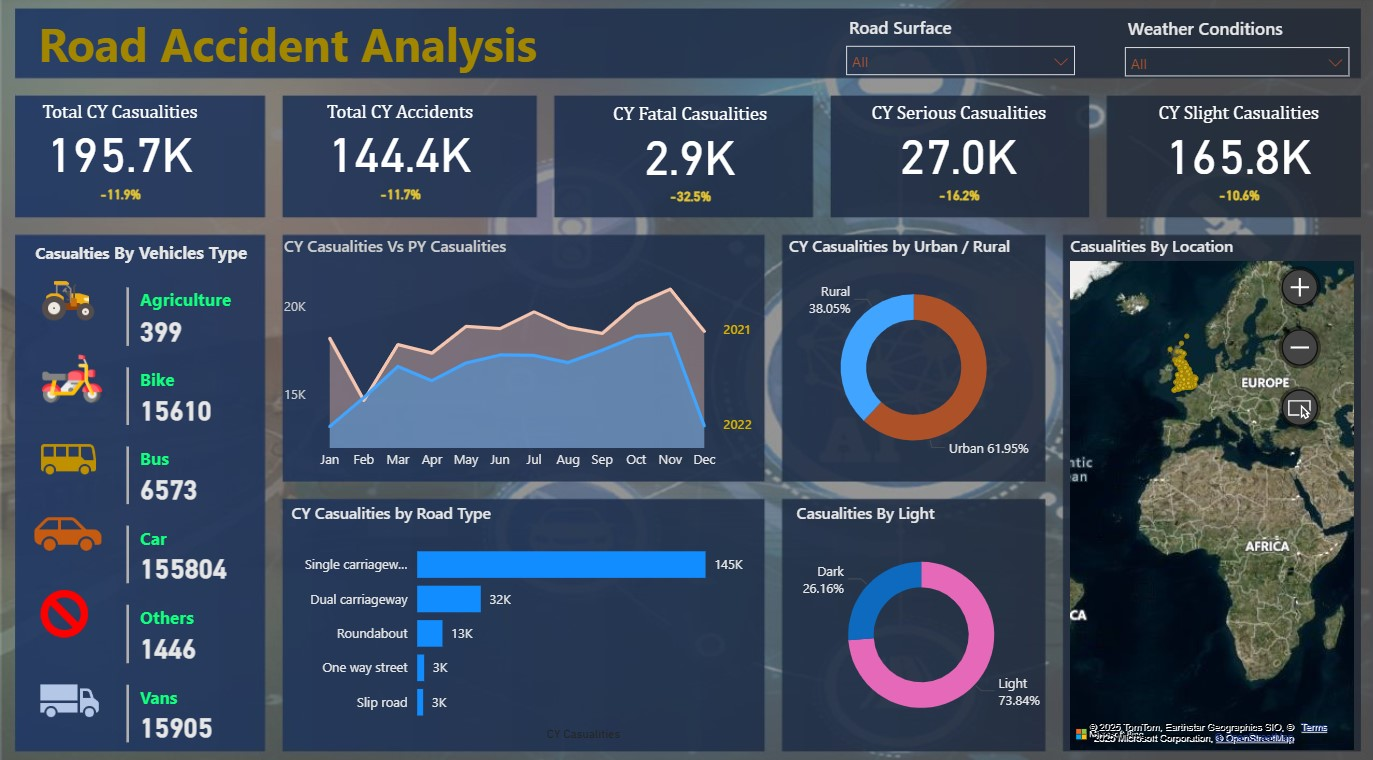

The page's visual inventory and layout, read from the dashboard file:
{"tool":"powerbi","page":{"name":"Page 1","canvas":[1280,720],"ordinal":0},"visuals":[{"type":"group","id":"g1","title":"Group 1","box":[11.6,96.1,199.9,105.7],"z":0},{"type":"card","title":"Total CY Casualities","fields":{"Values":["Data.CY Casualities"]},"box":[11.6,96.1,199.9,73.2],"z":0,"group":"g1"},{"type":"card","title":"Total CY Accidents","fields":{"Values":["Data.CY Accidents"]},"box":[271.9,96.4,199.9,73.2],"z":0,"group":"g2"},{"type":"card","title":"CY  Serious Casualities","fields":{"Values":["Data.CY Casualities"]},"box":[791.3,97.6,199.9,73.2],"z":0,"group":"g4"},{"type":"card","title":"CY Slight Casualities","fields":{"Values":["Data.CY Casualities"]},"box":[1052.7,97.6,199.9,73.2],"z":0,"group":"g5"},{"type":"card","title":"CY Fatal Casualities","fields":{"Values":["Data.CY Casualities"]},"box":[541.5,98.8,199.9,73.2],"z":0,"group":"g3"},{"type":"group","id":"g2","title":"Group 1","box":[271.9,96.4,199.9,105.7],"z":1000},{"type":"card","fields":{"Values":["Data.YOY Casualities"]},"box":[76.7,169.3,70.9,32.5],"z":1000,"group":"g1"},{"type":"card","fields":{"Values":["Data.YOY ACCIDENTS"]},"box":[337,169.6,70.9,32.5],"z":1000,"group":"g2"},{"type":"card","fields":{"Values":["Data.YOY Casualities"]},"box":[856.4,170.8,70.9,32.5],"z":1000,"group":"g4"},{"type":"card","fields":{"Values":["Data.YOY Casualities"]},"box":[1117.8,170.8,70.9,32.5],"z":1000,"group":"g5"},{"type":"card","fields":{"Values":["Data.YOY Casualities"]},"box":[606.6,172,70.9,32.5],"z":1000,"group":"g3"},{"type":"group","id":"g3","title":"Group 1","box":[541.5,98.8,199.9,105.7],"z":2000},{"type":"group","id":"g4","title":"Group 1","box":[791.3,97.6,199.9,106.9],"z":3000},{"type":"group","id":"g5","title":"Group 1","box":[1052.7,97.6,199.9,106.9],"z":4000},{"type":"textbox","box":[17.5,10,500,68.8],"z":5000},{"type":"multiRowCard","fields":{"Values":["Data.Vehicle_Type (groups)","Data.CY Casualities"]},"box":[112.5,266.2,125,453.8],"z":6000},{"type":"image","box":[9.4,251.8,107.7,61.9],"z":7000},{"type":"image","box":[17.5,323.2,99.6,66],"z":8000},{"type":"image","box":[31,389.1,64.6,82.1],"z":9000},{"type":"image","box":[24.2,459.2,78.1,82.1],"z":10000},{"type":"image","box":[17.5,541.3,84.8,66],"z":11000},{"type":"image","box":[28.3,620.7,74.1,68.7],"z":12000},{"type":"textbox","box":[28.3,222.2,214.1,47.1],"z":13000},{"type":"areaChart","title":"CY Casualities Vs PY Casualities","fields":{"Category":["Calender.Month"],"Y":["Sum(Data.Number_of_Casualties)"],"Series":["Calender.Date.Variation.Date Hierarchy.Year"]},"box":[259.9,222.2,448.4,227.6],"z":14000},{"type":"donutChart","title":"CY Casualities by Urban / Rural","fields":{"Category":["Data.Urban_or_Rural_Area"],"Y":["Data.CY Casualities"]},"box":[729.2,221.6,242.2,227.1],"z":15000},{"type":"donutChart","title":"Casualities By Light ","fields":{"Y":["Data.CY Casualities"],"Category":["Data.Light_Conditions (groups)"]},"box":[736,470.6,242.2,227.1],"z":16000},{"type":"barChart","title":"CY Casualities by Road Type ","fields":{"Category":["Data.Road_Type"],"Y":["Data.CY Casualities"]},"box":[266.8,470.6,436.4,227.1],"z":17000},{"type":"map","title":"Casualities By Location","fields":{"Y":["Data.Latitude"],"X":["Data.Longitude"],"Category":["Data.Local_Authority_(District)"]},"box":[990.5,221.6,273.6,484.3],"z":18000},{"type":"slicer","fields":{"Values":["Data.Weather_Conditions (groups)"]},"box":[1036,14,229,63],"z":19000},{"type":"slicer","fields":{"Values":["Data.Road_Surface_Conditions"]},"box":[776.5,12.3,233,66.8],"z":20000}]}

Visuals, with their boxes in screenshot pixels (x1, y1, x2, y2), scaled from the page's 1280x720 canvas onto the 1373x760 screenshot:
"Group 1" group: <region>12, 101, 227, 213</region>
"Total CY Casualities" card: <region>12, 101, 227, 179</region>
"Total CY Accidents" card: <region>292, 102, 506, 179</region>
"CY  Serious Casualities" card: <region>849, 103, 1063, 180</region>
"CY Slight Casualities" card: <region>1129, 103, 1344, 180</region>
"CY Fatal Casualities" card: <region>581, 104, 795, 182</region>
"Group 1" group: <region>292, 102, 506, 213</region>
card - Data.YOY Casualities: <region>82, 179, 158, 213</region>
card - Data.YOY ACCIDENTS: <region>361, 179, 438, 213</region>
card - Data.YOY Casualities: <region>919, 180, 995, 215</region>
card - Data.YOY Casualities: <region>1199, 180, 1275, 215</region>
card - Data.YOY Casualities: <region>651, 182, 727, 216</region>
"Group 1" group: <region>581, 104, 795, 216</region>
"Group 1" group: <region>849, 103, 1063, 216</region>
"Group 1" group: <region>1129, 103, 1344, 216</region>
textbox: <region>19, 11, 555, 83</region>
multiRowCard - Data.Vehicle_Type (groups) x Data.CY Casualities: <region>121, 281, 255, 759</region>
image: <region>10, 266, 126, 331</region>
image: <region>19, 341, 126, 411</region>
image: <region>33, 411, 103, 497</region>
image: <region>26, 485, 110, 571</region>
image: <region>19, 571, 110, 641</region>
image: <region>30, 655, 110, 728</region>
textbox: <region>30, 235, 260, 284</region>
"CY Casualities Vs PY Casualities" areaChart: <region>279, 235, 760, 475</region>
"CY Casualities by Urban / Rural" donutChart: <region>782, 234, 1042, 474</region>
"Casualities By Light " donutChart: <region>789, 497, 1049, 736</region>
"CY Casualities by Road Type " barChart: <region>286, 497, 754, 736</region>
"Casualities By Location" map: <region>1062, 234, 1356, 745</region>
slicer - Data.Weather_Conditions (groups): <region>1111, 15, 1357, 81</region>
slicer - Data.Road_Surface_Conditions: <region>833, 13, 1083, 83</region>
